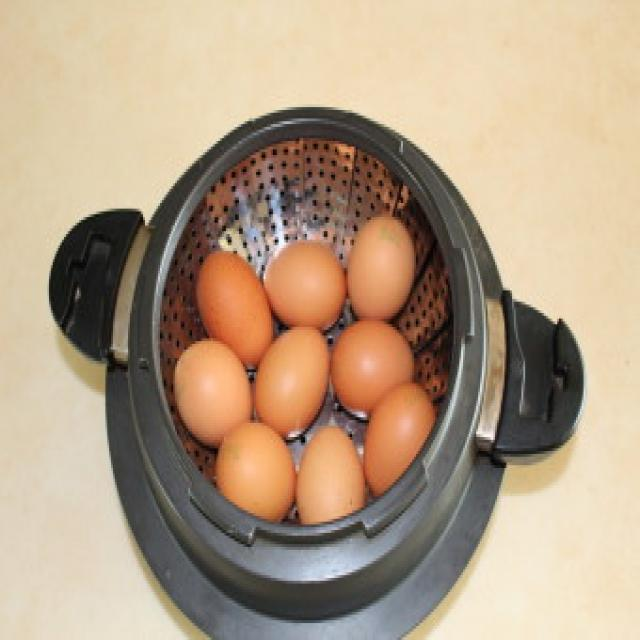eggs: (192, 246, 274, 362), (212, 417, 299, 523), (330, 317, 418, 416), (254, 321, 328, 435), (262, 236, 348, 332), (365, 375, 435, 492), (346, 212, 417, 326), (174, 339, 258, 435), (302, 426, 363, 518)
